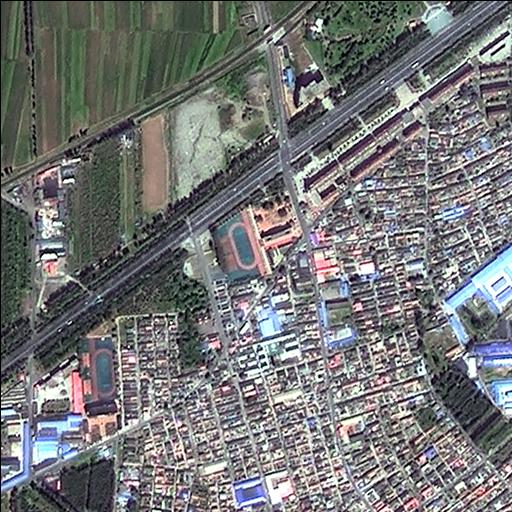school: (214, 190, 298, 282), (75, 330, 119, 450)
